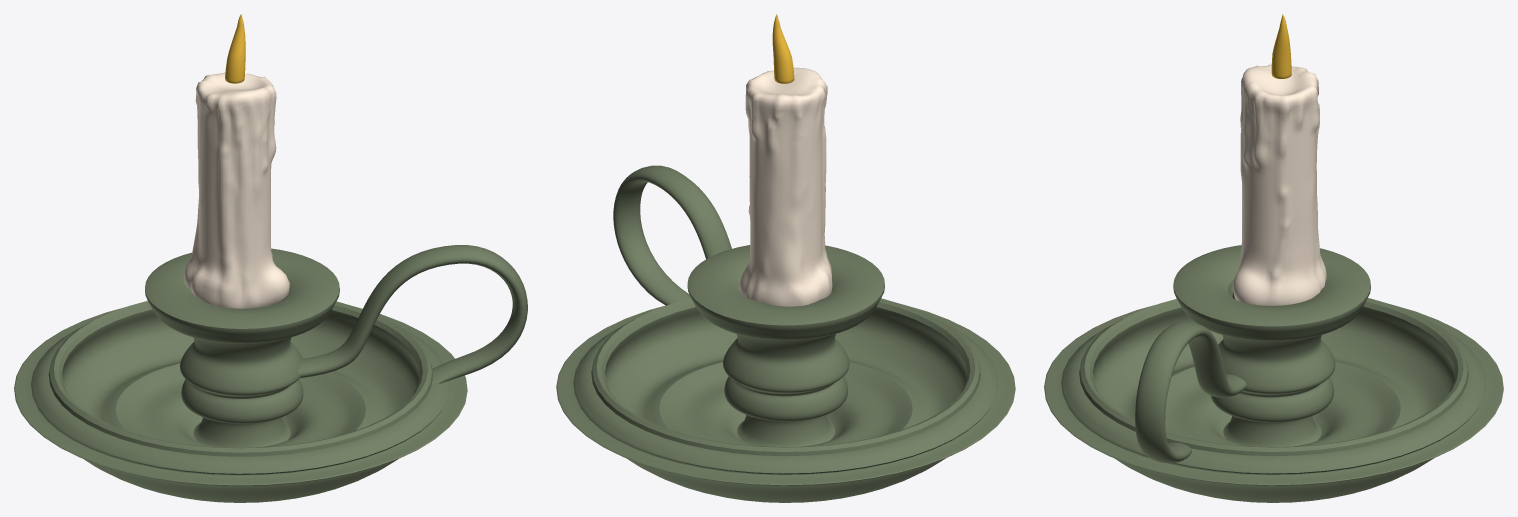
File: candle.obj
The picture shows the model from 3 angles, left to right: view 1: azimuth 30°, elevation 25°; view 2: azimuth 150°, elevation 25°; view 3: azimuth 270°, elevation 25°; orthographic projection.
Parts seen in each view (by area): view 1: Stand, Wax, Handle, Flame; view 2: Stand, Wax, Handle, Flame; view 3: Stand, Wax, Handle, Flame.
Boxes of the visible parts, bbox=[...] form: Stand: bbox=[14, 248, 467, 502]; Wax: bbox=[184, 72, 289, 308]; Handle: bbox=[298, 245, 527, 383]; Flame: bbox=[225, 14, 245, 83]; Stand: bbox=[556, 245, 1015, 502]; Wax: bbox=[739, 67, 832, 306]; Handle: bbox=[613, 165, 731, 305]; Flame: bbox=[772, 14, 794, 83]; Stand: bbox=[1044, 245, 1503, 502]; Wax: bbox=[1232, 64, 1326, 305]; Handle: bbox=[1135, 322, 1246, 463]; Flame: bbox=[1271, 14, 1291, 78].
Bounding box in the file's own units: 4.34 × 4.29 × 4.04.
5 materials, 5 textured.
